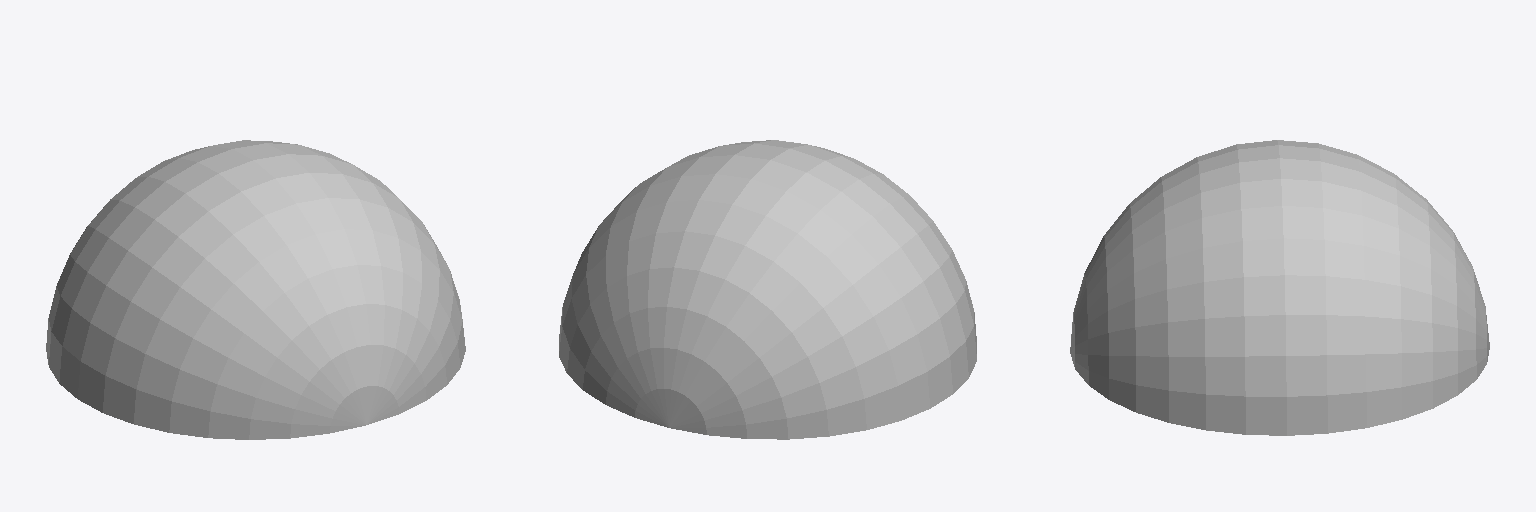
File: tapaPokeBola.obj
3 views of the same model, side by side, from view 1: azimuth 30°, elevation 25°; view 2: azimuth 150°, elevation 25°; view 3: azimuth 270°, elevation 25° (orthographic).
Visible parts, largest first — view 1: tapaSuperior:Pokebola_arriba_Pokebola_arriba_Material_005; view 2: tapaSuperior:Pokebola_arriba_Pokebola_arriba_Material_005; view 3: tapaSuperior:Pokebola_arriba_Pokebola_arriba_Material_005.
Part boxes in pixels (x1,y1,x2,y2): tapaSuperior:Pokebola_arriba_Pokebola_arriba_Material_005: (46,140,465,439); tapaSuperior:Pokebola_arriba_Pokebola_arriba_Material_005: (559,140,976,439); tapaSuperior:Pokebola_arriba_Pokebola_arriba_Material_005: (1070,140,1489,435).
Bounding box in the file's own units: 0.8087 × 0.4102 × 0.8088.